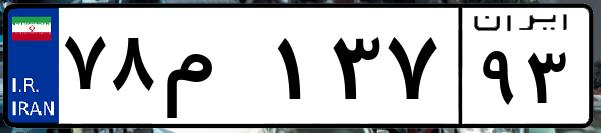1: (270, 28, 330, 110)
3: (330, 28, 385, 110), (525, 38, 570, 115)
7: (385, 28, 445, 110), (57, 26, 110, 100)
8: (110, 28, 158, 98)
9: (475, 38, 525, 113)
م: (158, 20, 270, 120)
